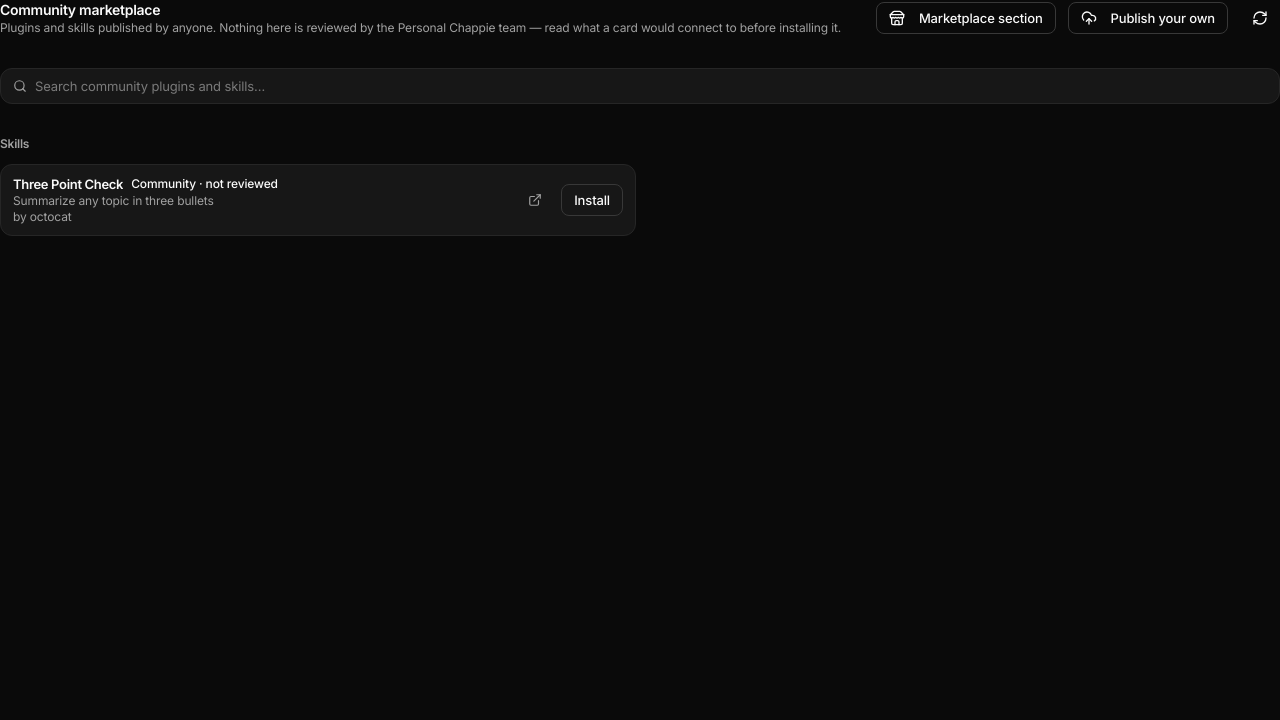
reading an entry before installing it › says so honestly when the published file cannot be read
Click the button titled "Read what Three Point Check". click: x=68, y=184
box: x1=13 y1=175 x2=509 y2=225
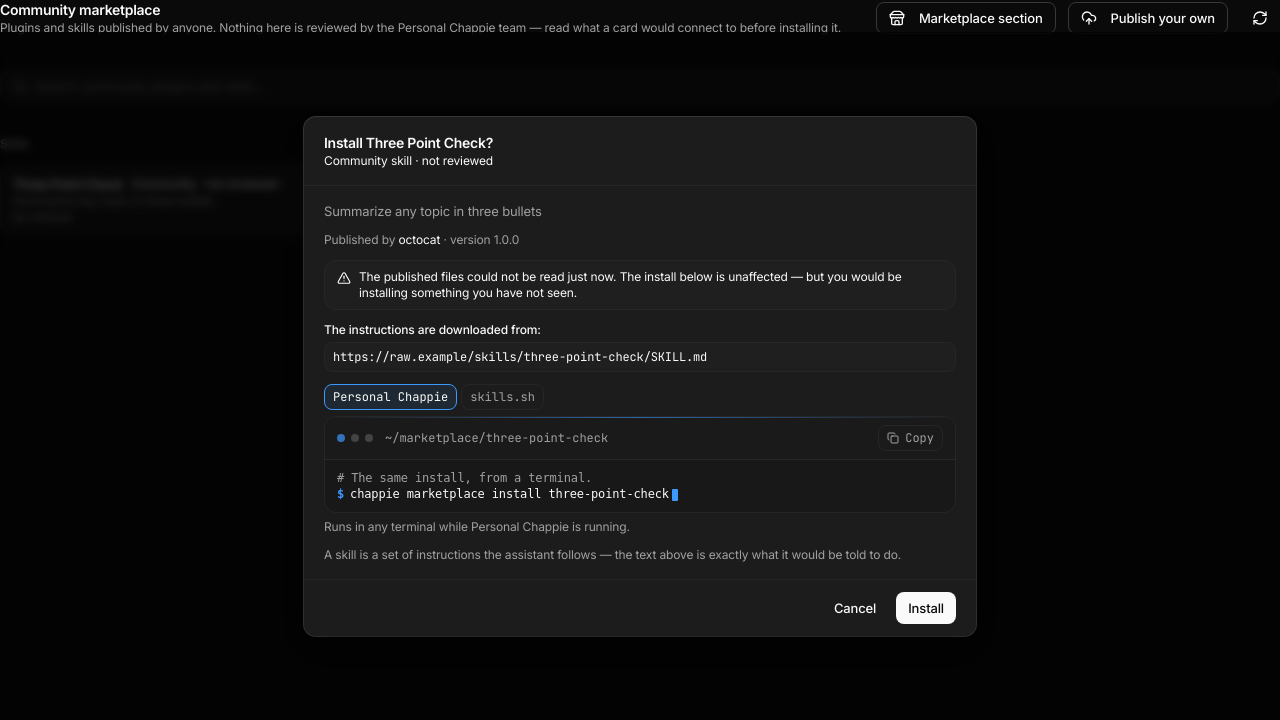
Expected: the text "could not be read just now" is shown, x1=359 y1=268 x2=902 y2=300
